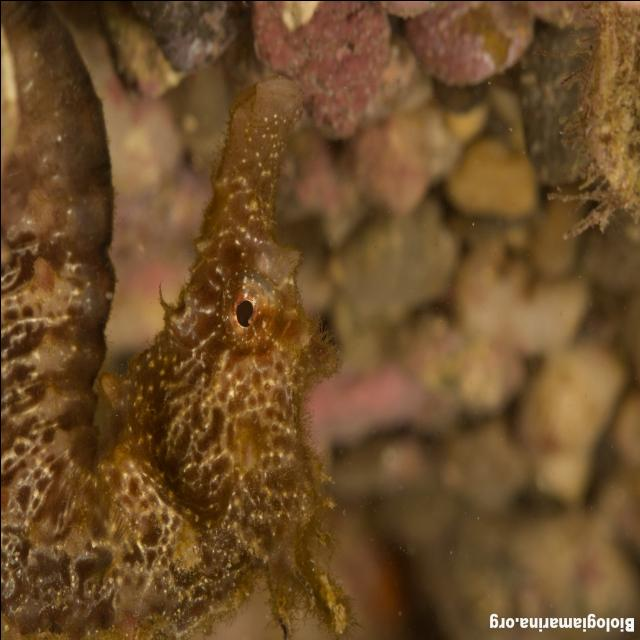Guttu: (105, 71, 348, 608)
